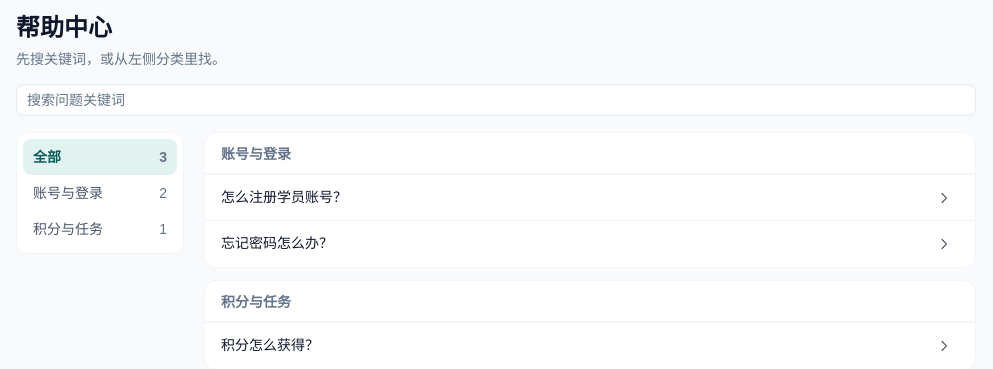
Test: 帮助中心 分类筛选（#1079） › 点左侧分类只显示该分类下的条目
Step 1. Click the button "积分与任务 1" → click(100, 229), box [23, 211, 177, 247]
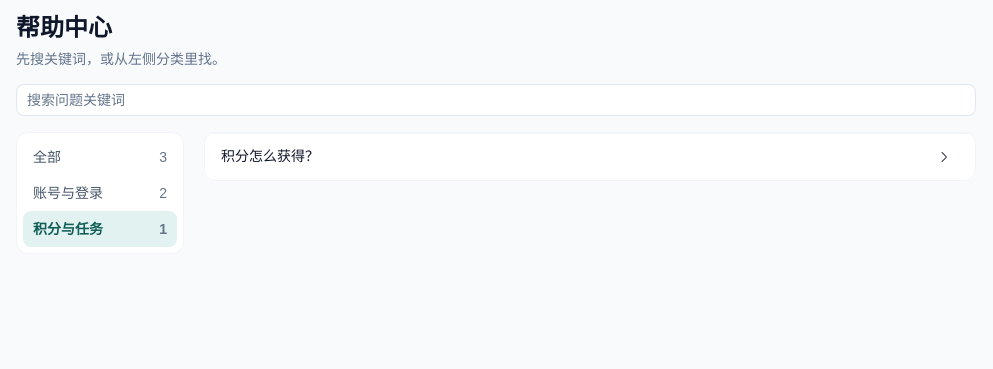
Expected: the text "积分怎么获得？" is shown, [205, 134, 975, 180]
Expected: the text "怎么注册学员账号？" is gone
